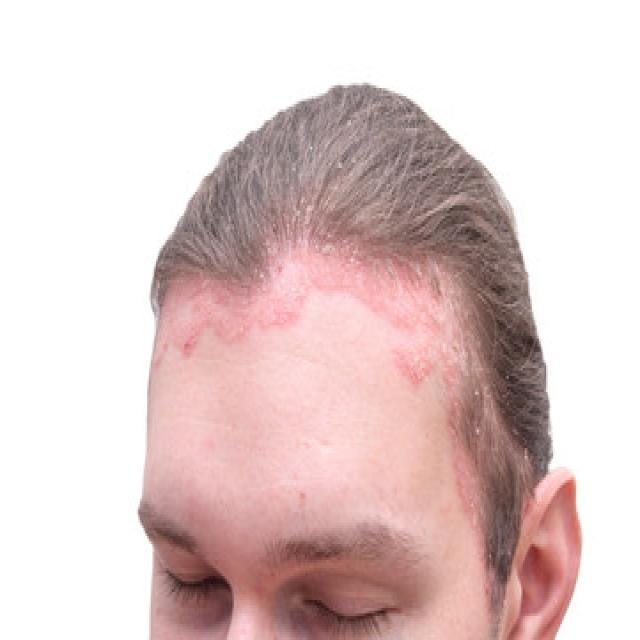Eczema: (148, 205, 522, 606)
